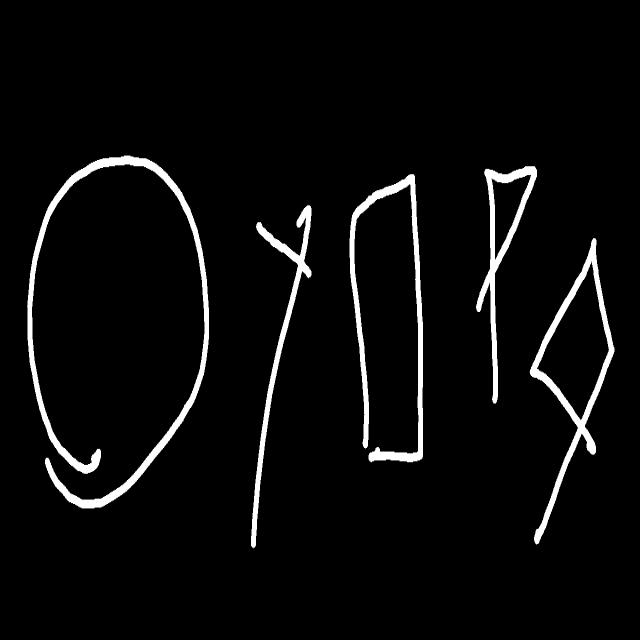circle: (28, 156, 209, 508)
cross: (251, 205, 312, 548)
diamond: (530, 239, 614, 544)
rectangle: (348, 175, 423, 462)
triangle: (476, 166, 536, 404)
